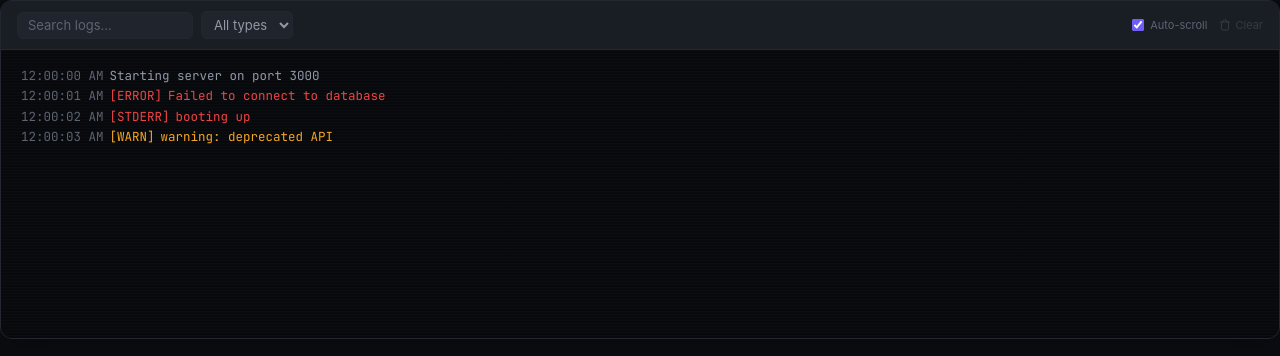
Test case: LogsTab › filters by type
This screenshot has width=1280, height=356.
Step 1. Select "error" in the dropdown named "Filter log type" → (247, 25), box x1=201 y1=11 x2=293 y2=39
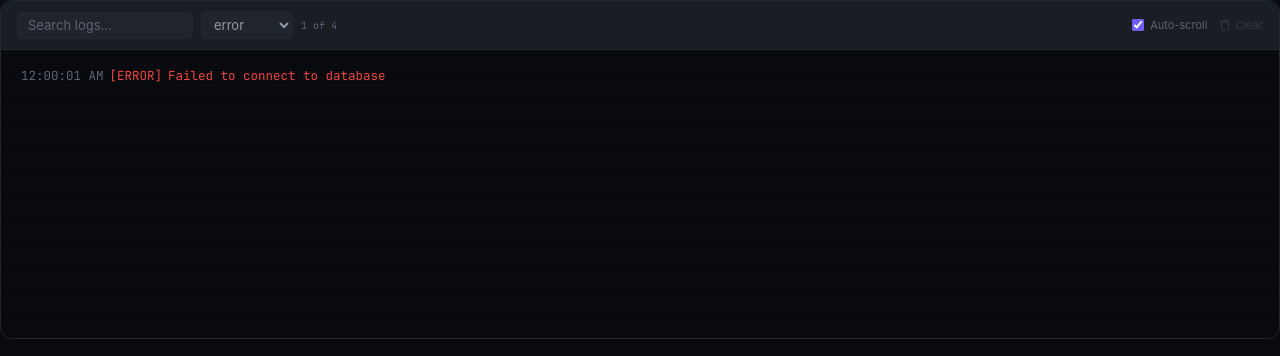
Expected: the text "12:00:01 AM[ERROR]Failed to connect to database" is shown, x1=21 y1=67 x2=386 y2=84
Expected: the text "Starting server on port 3000" is gone
